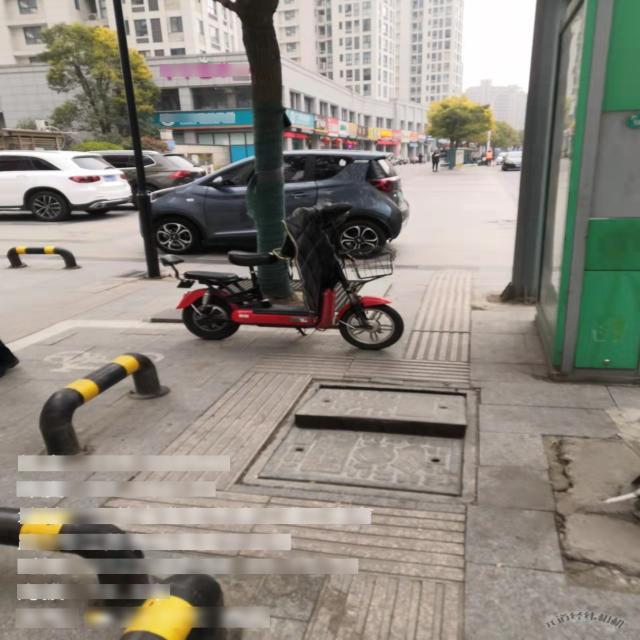Faulty: (234, 380, 478, 506)
